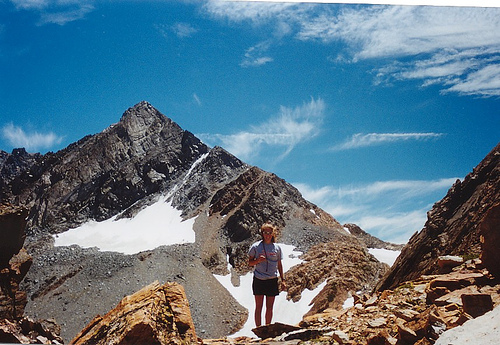without_mask: (260, 226, 276, 244)
